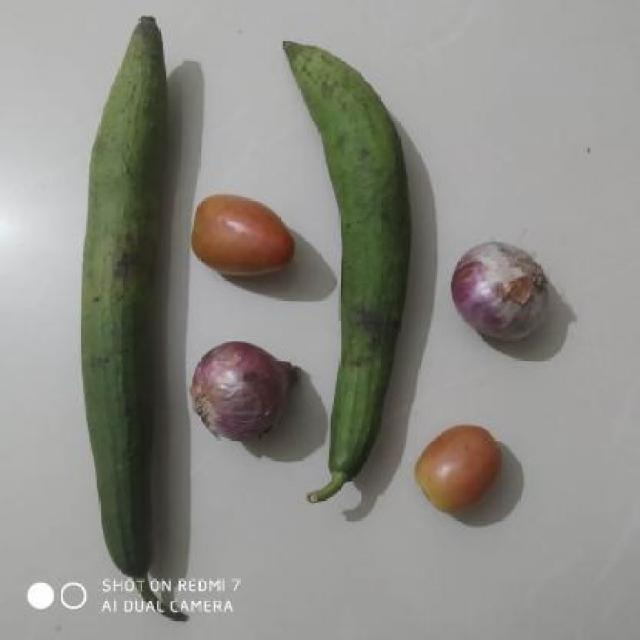Onion: (192, 338, 308, 449), (451, 232, 560, 346)
Sponge Gourd: (54, 12, 184, 597), (294, 34, 412, 512)
Tomato: (408, 408, 522, 518), (194, 197, 306, 277)
